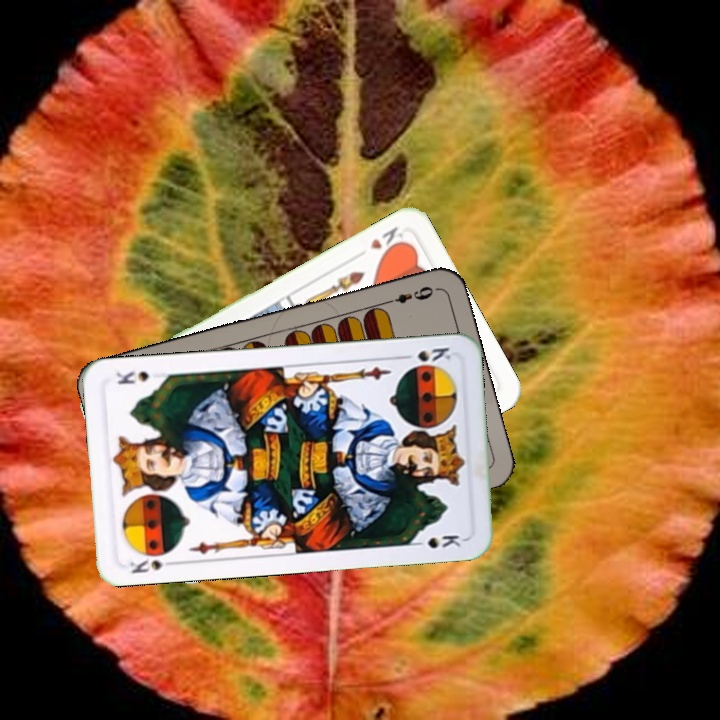E9: (381, 282, 436, 307)
HK: (365, 222, 409, 258)
SK: (396, 343, 454, 364), (125, 555, 180, 577)
